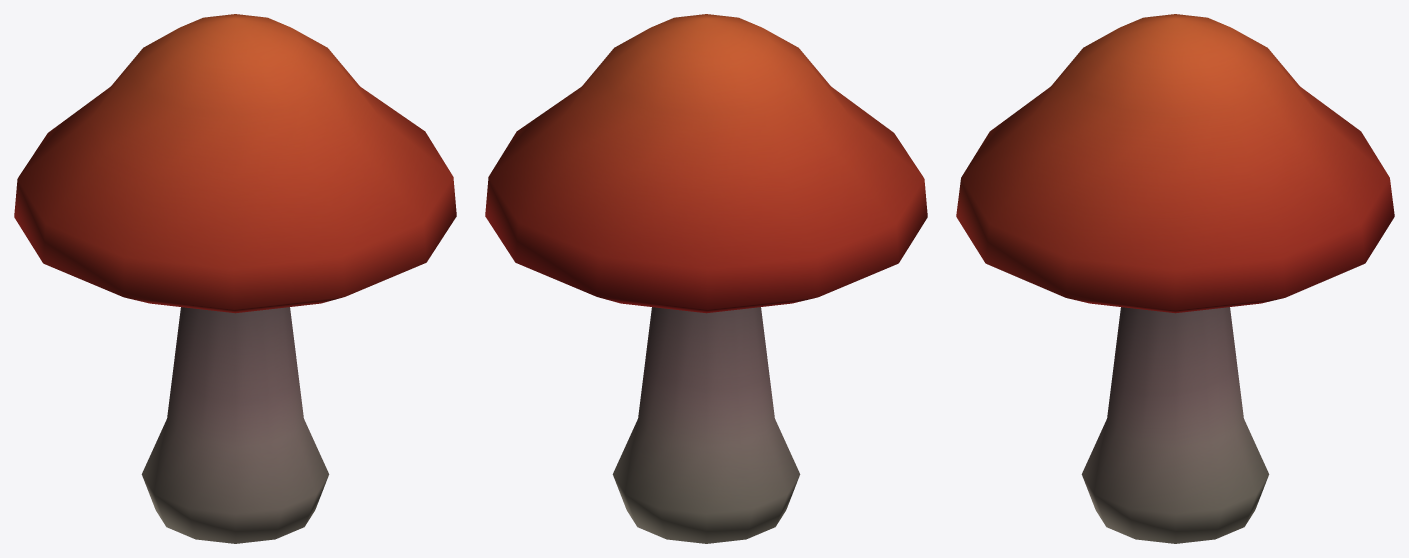
The model's file is SM_Prop_LargeMushroom_02.fbx.
The picture shows the model from 3 angles, left to right: view 1: azimuth 30°, elevation 25°; view 2: azimuth 150°, elevation 25°; view 3: azimuth 270°, elevation 25°; orthographic projection.
Parts seen in each view (by area): view 1: SM_LargeMushroom_02; view 2: SM_LargeMushroom_02; view 3: SM_LargeMushroom_02.
Boxes of the visible parts, left/top/right/bottom form: SM_LargeMushroom_02: left=14, top=14, right=456, bottom=543; SM_LargeMushroom_02: left=485, top=14, right=927, bottom=543; SM_LargeMushroom_02: left=956, top=14, right=1394, bottom=543.
Bounding box in the file's own units: 313 × 382 × 309.
